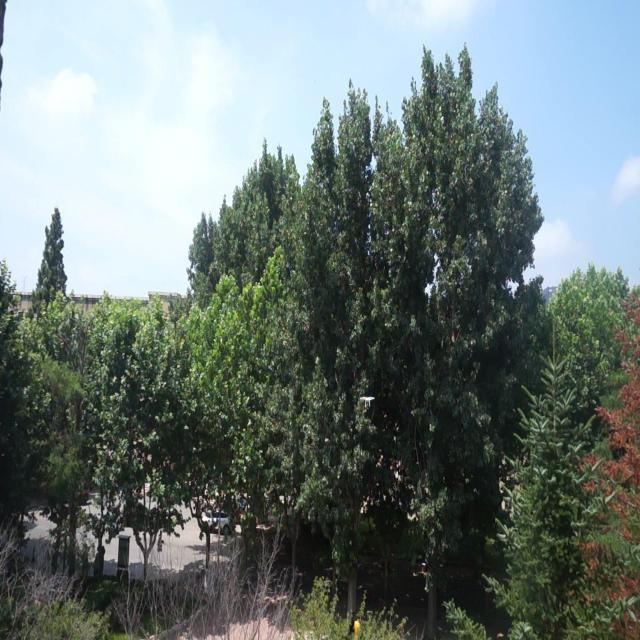UAV: (360, 397, 375, 407)
